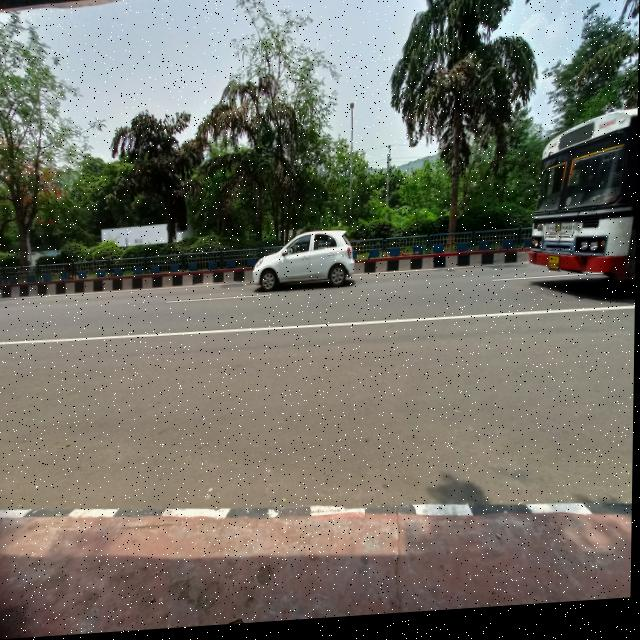bus: (522, 109, 638, 303)
car: (249, 218, 366, 309)
